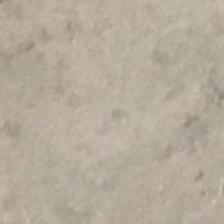Non_Crack: (25, 35, 219, 188)
